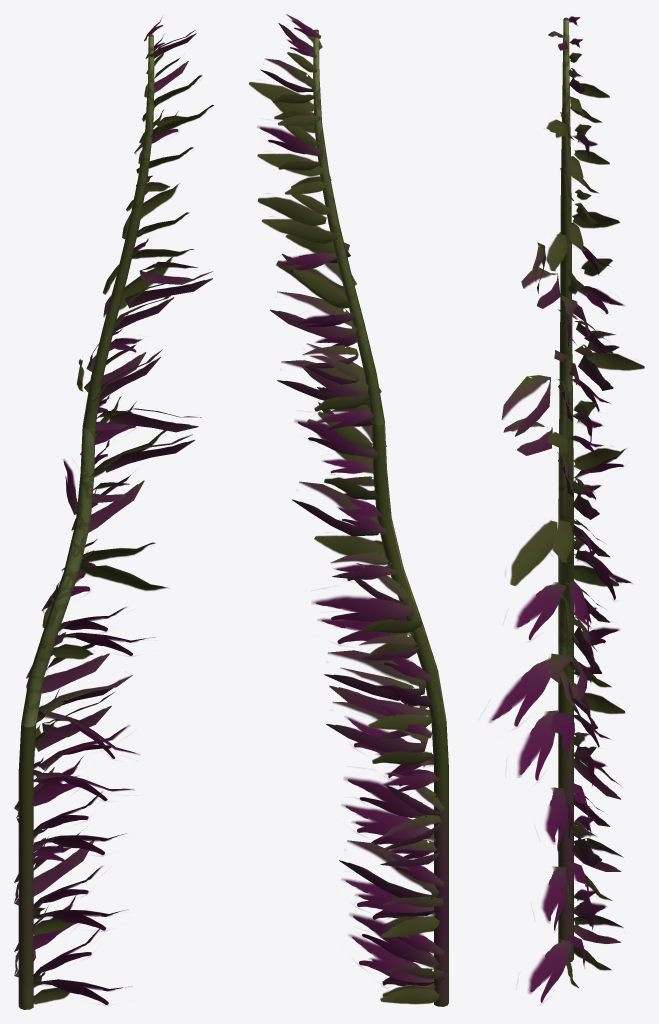
3 renders of one model, left to right at view 1: azimuth 30°, elevation 25°; view 2: azimuth 150°, elevation 25°; view 3: azimuth 270°, elevation 25°, orthographic. The views are drawn at different scales.
Parts seen in each view (by area): view 1: Stem, Leaf33, Leaf56, Leaf63, Leaf12, Leaf49, Leaf70, Leaf47, Leaf26, Leaf34, Leaf14, Leaf2 (+17 smaller); view 2: Stem, Leaf40, Leaf33, Leaf12, Leaf26, Leaf34, Leaf69, Leaf1, Leaf47, Leaf20, Leaf3, Leaf19 (+44 smaller); view 3: Stem, Leaf35, Leaf49, Leaf28, Leaf42, Leaf2, Leaf63, Leaf14, Leaf21, Leaf34, Leaf4, Leaf59 (+20 smaller).
Boxes of the visible parts, box(x1,y1,x2,y2) form: Stem: box(18, 34, 154, 1009); Leaf33: box(41, 644, 109, 693); Leaf56: box(102, 434, 194, 472); Leaf63: box(109, 408, 201, 432); Leaf12: box(33, 826, 94, 896); Leaf49: box(79, 564, 169, 590); Leaf70: box(125, 271, 212, 308); Leaf47: box(88, 474, 144, 532); Leaf26: box(35, 691, 115, 751); Leaf34: box(38, 675, 132, 718); Leaf14: box(33, 909, 128, 931); Leaf2: box(33, 979, 131, 1005); Stem: box(313, 29, 448, 1006); Leaf40: box(311, 595, 414, 621); Leaf33: box(324, 650, 426, 700); Leaf12: box(339, 840, 438, 899); Leaf26: box(326, 701, 428, 752); Leaf34: box(329, 667, 427, 716); Leaf69: box(270, 291, 357, 339); Leaf1: box(349, 913, 439, 969); Leaf47: box(291, 481, 380, 536); Leaf20: box(341, 804, 435, 842); Leaf3: box(348, 934, 435, 990); Leaf19: box(343, 777, 434, 817); Stem: box(558, 17, 573, 961); Leaf35: box(488, 656, 550, 728); Leaf49: box(505, 520, 557, 586); Leaf28: box(517, 710, 558, 782); Leaf42: box(514, 582, 566, 641); Leaf2: box(528, 939, 572, 1004); Leaf63: box(501, 375, 550, 436); Leaf14: box(541, 866, 567, 931); Leaf21: box(545, 787, 567, 852); Leaf34: box(550, 653, 587, 698); Leaf4: box(574, 915, 623, 943); Leaf59: box(586, 352, 644, 370).
Bounding box in the file's own units: 0.4203 × 2 × 0.2931.
1 material, 1 textured.
